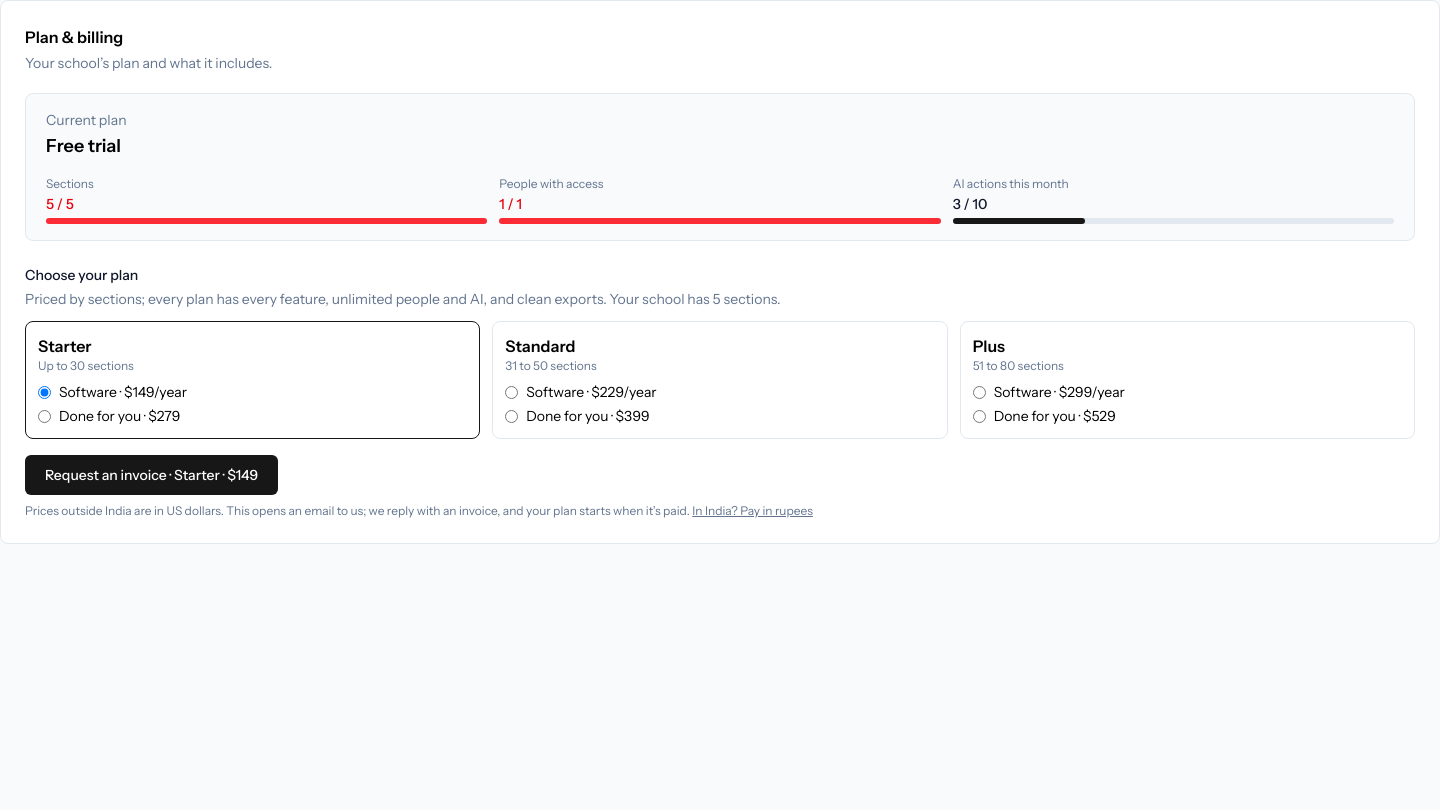
Scenario: BillingSection › outside India shows dollar prices and asks for an invoice instead of checkout
Check: the radio button labelled "Software · $149/year" is shown, box [38,386,51,398]
Check: the button "pay now" is not shown
Click the button "In India? Pay in rupees" at (753, 511), box [692,503,813,519]
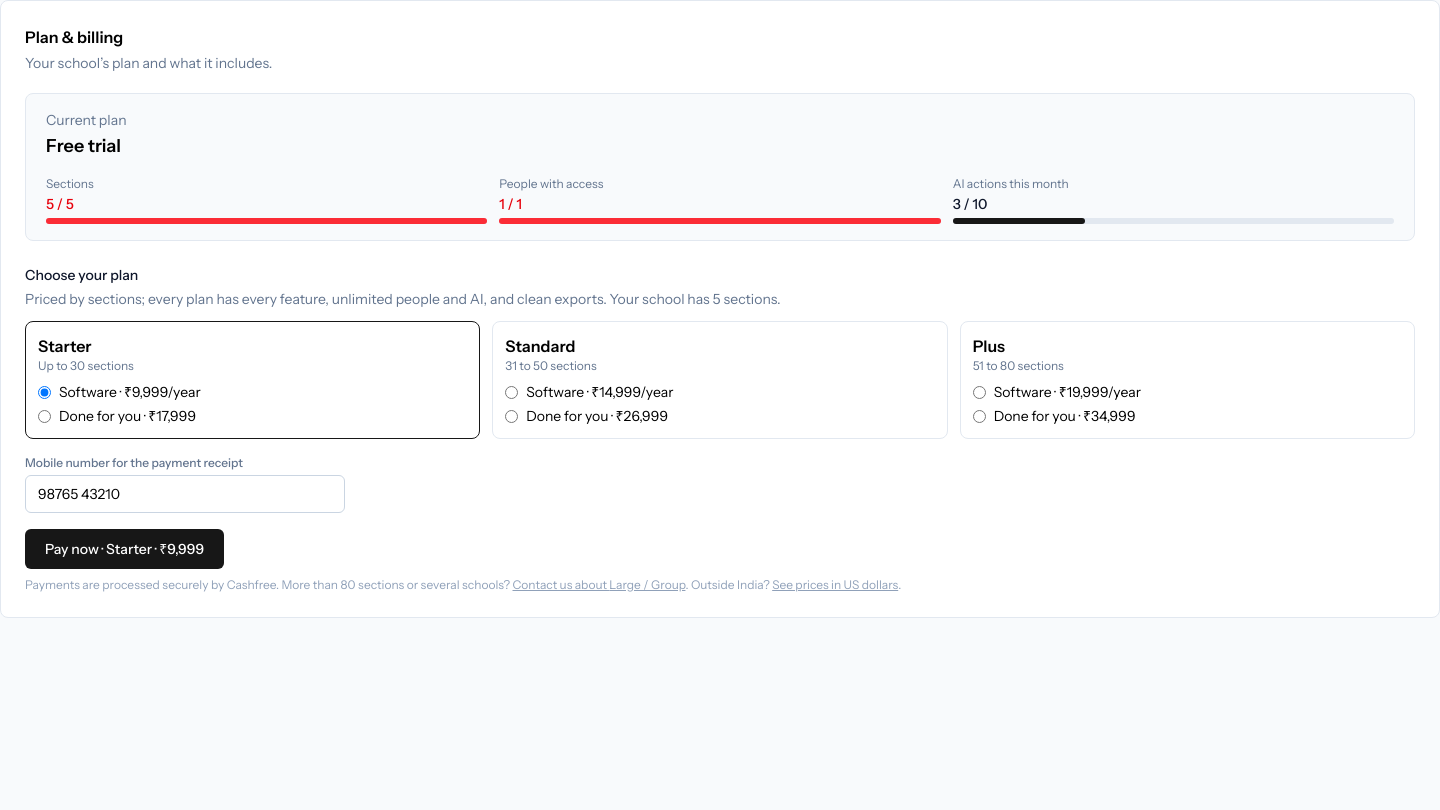
Check: the button "Pay now · Starter · ₹9,999" is shown, box [25,529,224,569]
